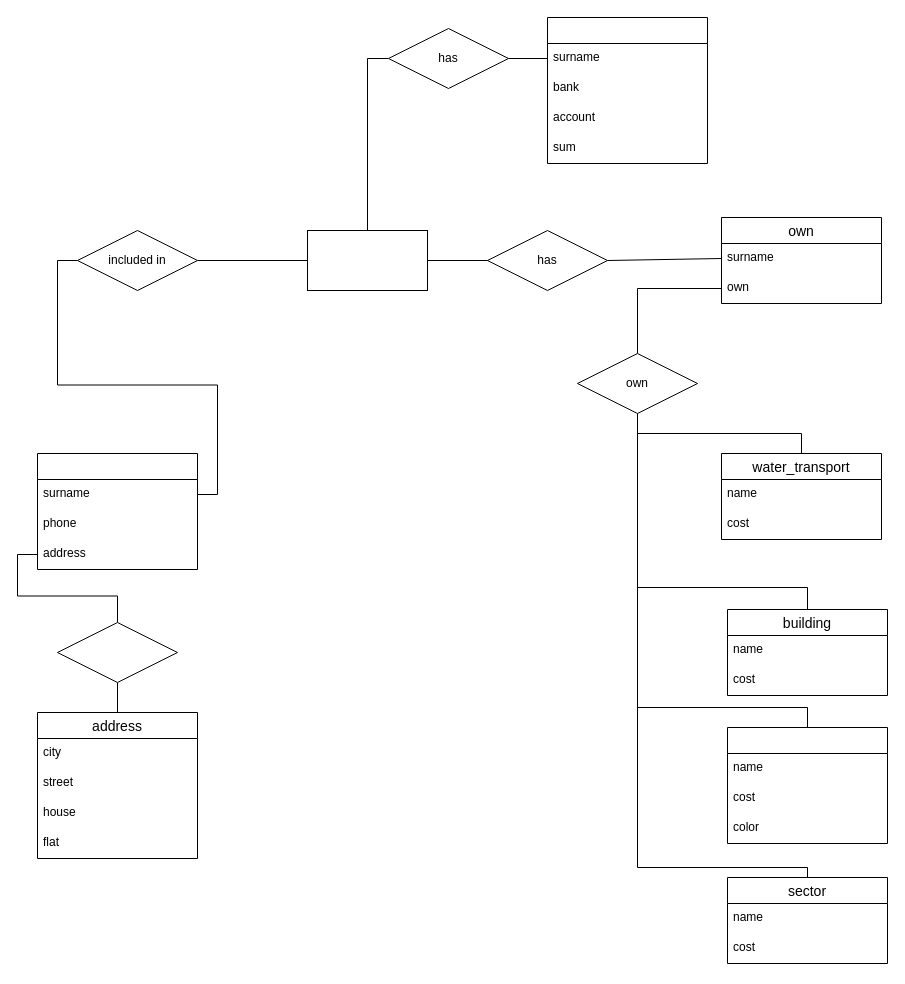
This 905x984 diagram has some shape labels left out. The box of each missing label's shape, as (x1, y1, x2, y2) in pixels:
bank_deposit: (546, 16, 708, 164)
car: (726, 726, 888, 844)
person: (306, 230, 428, 290)
phone_dir: (36, 452, 198, 570)
placed: (56, 622, 178, 682)
